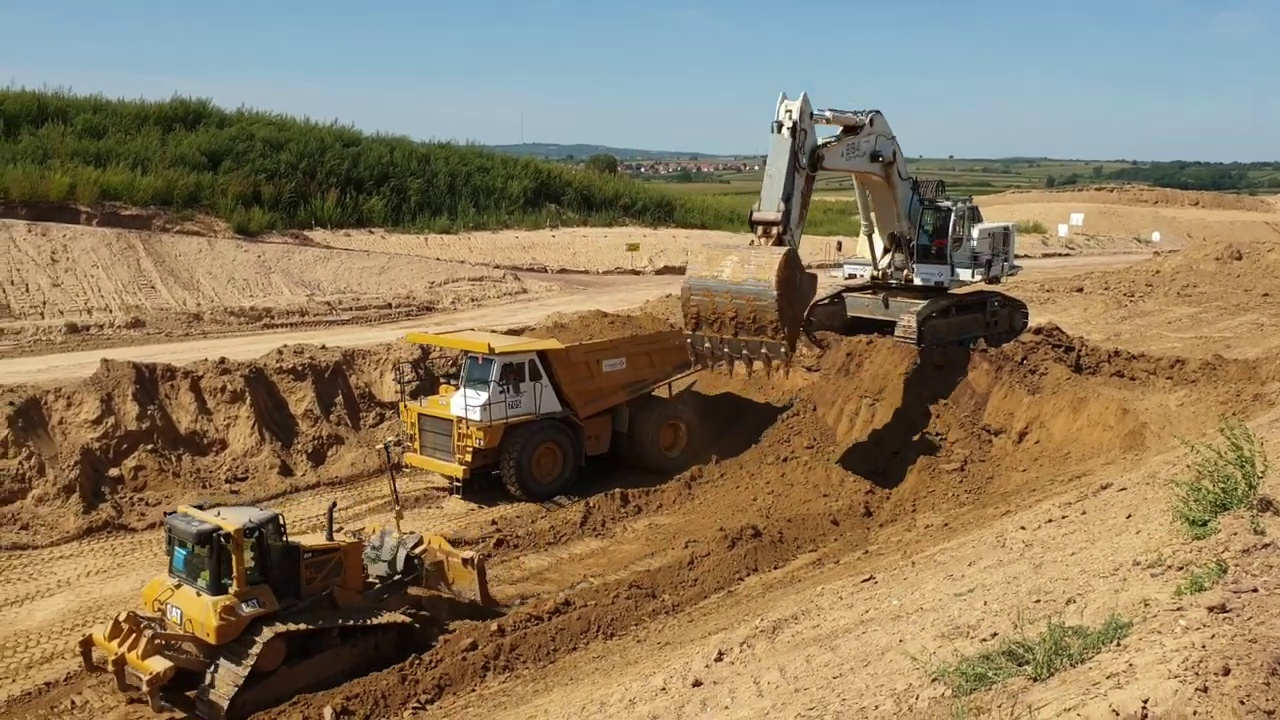bulldozer: (71, 437, 495, 720)
excavator: (681, 85, 1033, 379)
truck: (388, 307, 729, 503)
